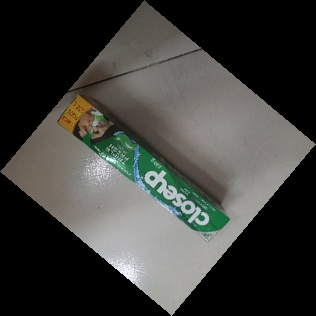CloseUp Xanh: (55, 93, 230, 244)
